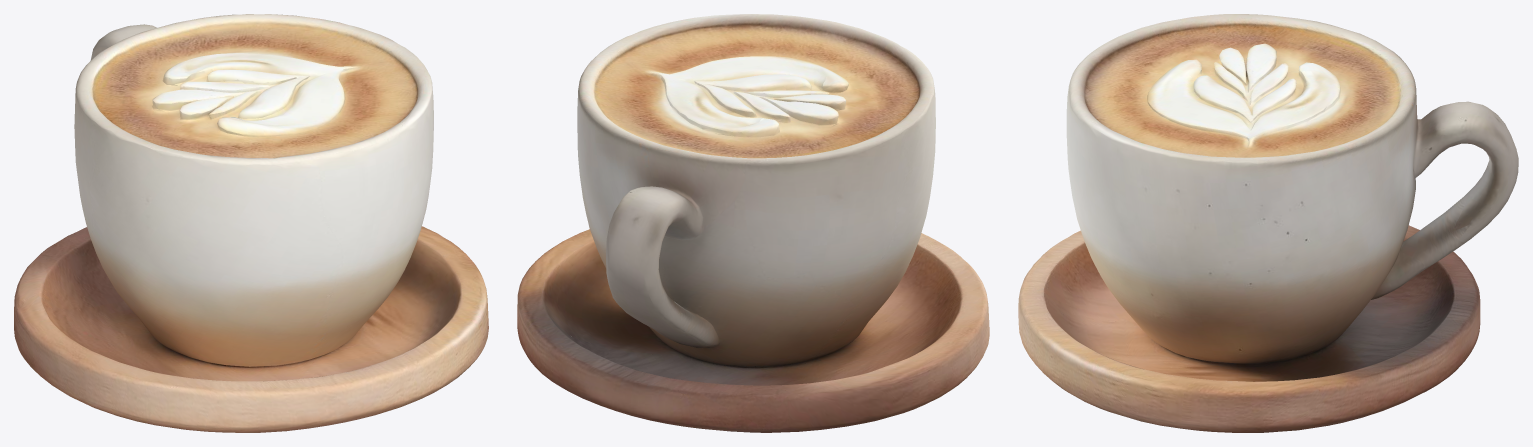
File: filizanka.glb
3 renders of one model, left to right at view 1: azimuth 30°, elevation 25°; view 2: azimuth 150°, elevation 25°; view 3: azimuth 270°, elevation 25°, orthographic.
Visible parts, largest first — view 1: model; view 2: model; view 3: model.
Boxes of the visible parts, x1=… form: model: x1=14, y1=14, x2=488, y2=432; model: x1=517, y1=14, x2=989, y2=432; model: x1=1018, y1=14, x2=1518, y2=432.
Size of the model in its own units: 1.79 by 1.13 by 1.9.
Materials: 1 (1 with a texture image).
